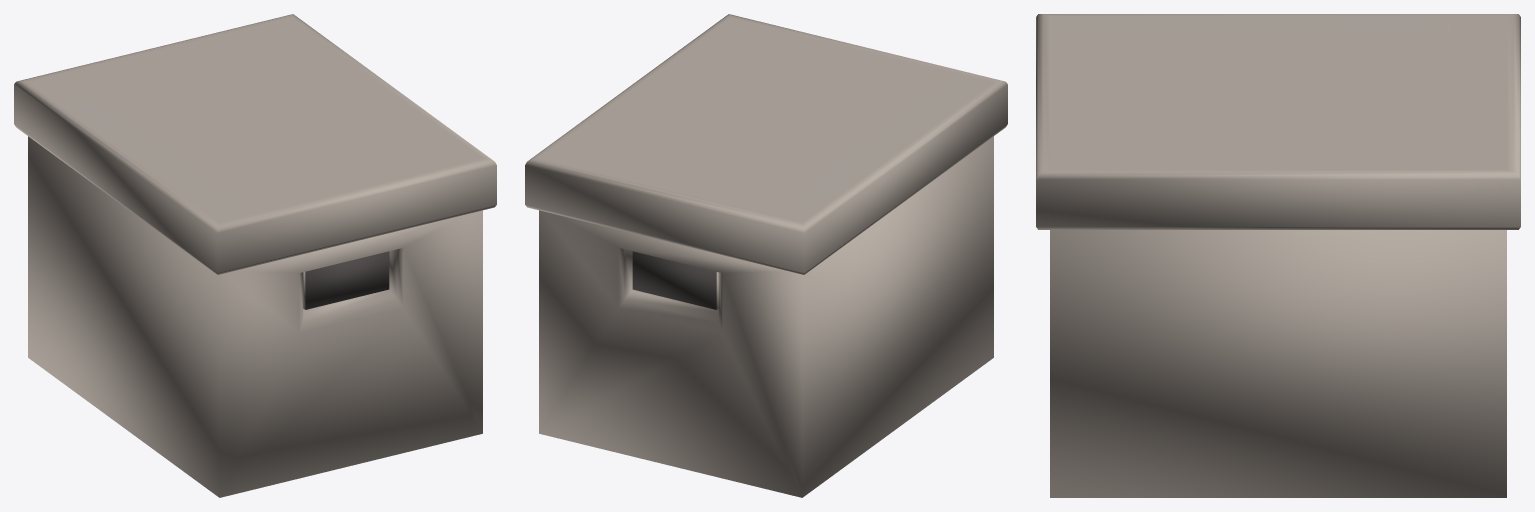
The model's file is Karton.fbx.
3 views of the same model, side by side, from view 1: azimuth 30°, elevation 25°; view 2: azimuth 150°, elevation 25°; view 3: azimuth 270°, elevation 25° (orthographic). The views are drawn at different scales.
Parts seen in each view (by area): view 1: Karton, Deckel.004; view 2: Karton, Deckel.004; view 3: Karton, Deckel.004.
Boxes of the visible parts, x1,y1,x2,y2 form: Karton: (28, 136, 482, 497); Deckel.004: (14, 14, 496, 274); Karton: (539, 136, 993, 497); Deckel.004: (525, 14, 1007, 274); Karton: (1050, 230, 1506, 497); Deckel.004: (1036, 14, 1520, 229).
Size of the model in its own units: 37.16 by 35 by 46.84.
